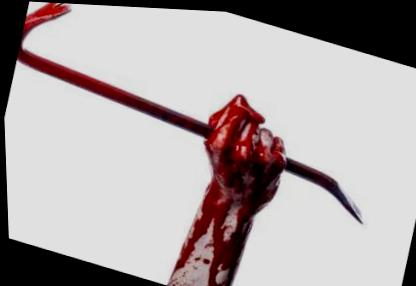Fire: (170, 92, 286, 286), (18, 2, 70, 52), (165, 270, 187, 286)
